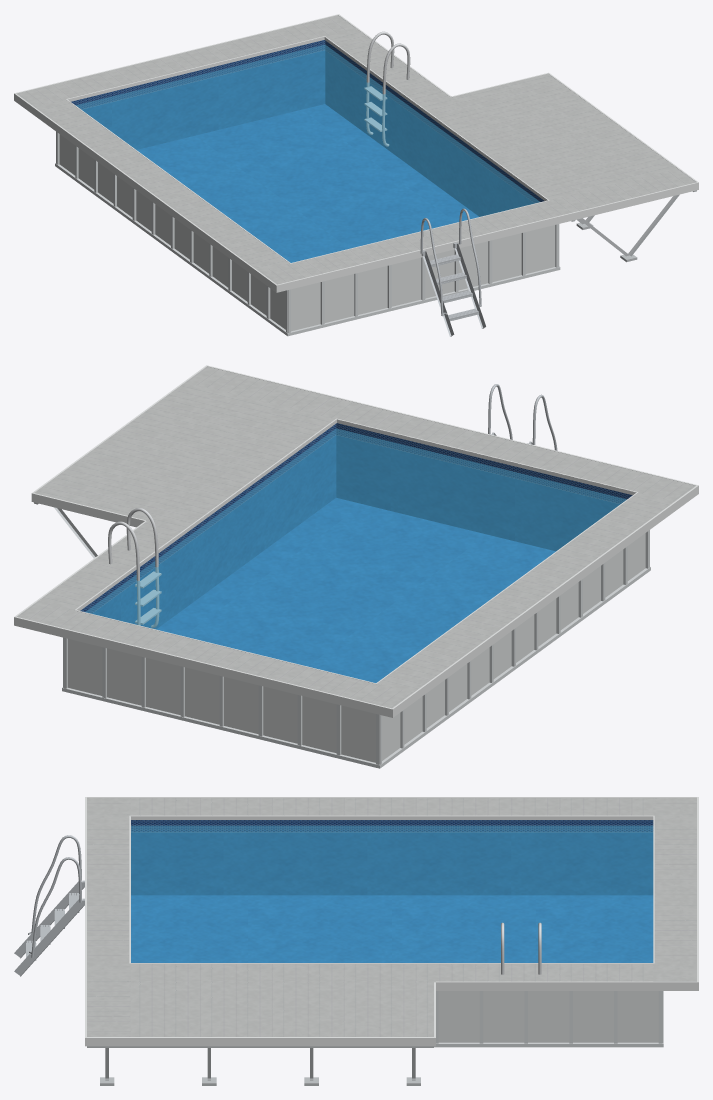
Rendered from kayak-pool-16x24-white-l-ag-nofence.8ec8f26d9f.glb.
The picture shows the model from 3 angles, top to bottom: view 1: azimuth 30°, elevation 25°; view 2: azimuth 150°, elevation 25°; view 3: azimuth 270°, elevation 25°; orthographic projection. The views are drawn at different scales.
Visible parts, largest first — view 1: water, deck, liner_floor, liner_wall, wall, fascia, upright, ladder, steel, stud; view 2: water, deck, liner_floor, liner_wall, wall, fascia, upright, steel, ladder; view 3: water, deck, liner_wall, liner_floor, fascia, wall, ladder, upright, stud.
Part boxes in pixels (bbox=[...]): water: bbox=[76, 44, 539, 262]; deck: bbox=[16, 15, 695, 284]; liner_floor: bbox=[137, 104, 478, 262]; liner_wall: bbox=[71, 40, 544, 216]; wall: bbox=[59, 134, 555, 331]; fascia: bbox=[14, 14, 698, 292]; upright: bbox=[55, 131, 560, 336]; ladder: bbox=[420, 208, 485, 336]; steel: bbox=[364, 31, 410, 146]; stud: bbox=[571, 190, 696, 262]; water: bbox=[85, 428, 626, 682]; deck: bbox=[17, 366, 695, 708]; liner_floor: bbox=[156, 498, 555, 682]; liner_wall: bbox=[80, 423, 632, 629]; wall: bbox=[68, 533, 645, 762]; fascia: bbox=[14, 365, 698, 717]; upright: bbox=[62, 530, 650, 768]; steel: bbox=[108, 508, 161, 628]; ladder: bbox=[488, 384, 557, 450]; water: bbox=[131, 825, 653, 962]; deck: bbox=[87, 798, 696, 1036]; liner_wall: bbox=[131, 820, 653, 895]; liner_floor: bbox=[131, 895, 653, 962]; fascia: bbox=[85, 797, 698, 1046]; wall: bbox=[438, 991, 658, 1042]; ladder: bbox=[14, 835, 84, 976]; upright: bbox=[434, 991, 663, 1047]; stud: bbox=[87, 1046, 433, 1085].
Size of the model in its own units: 7.93 by 1.9 by 9.52.
Materials: 10 (3 with a texture image).
